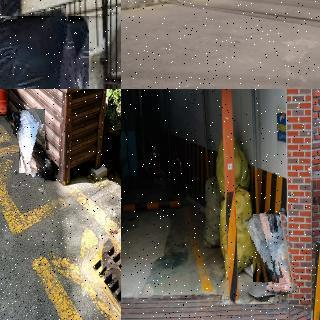Garbage: (0, 11, 99, 89), (265, 213, 295, 295), (16, 108, 48, 174), (249, 213, 279, 283), (36, 149, 56, 182)
